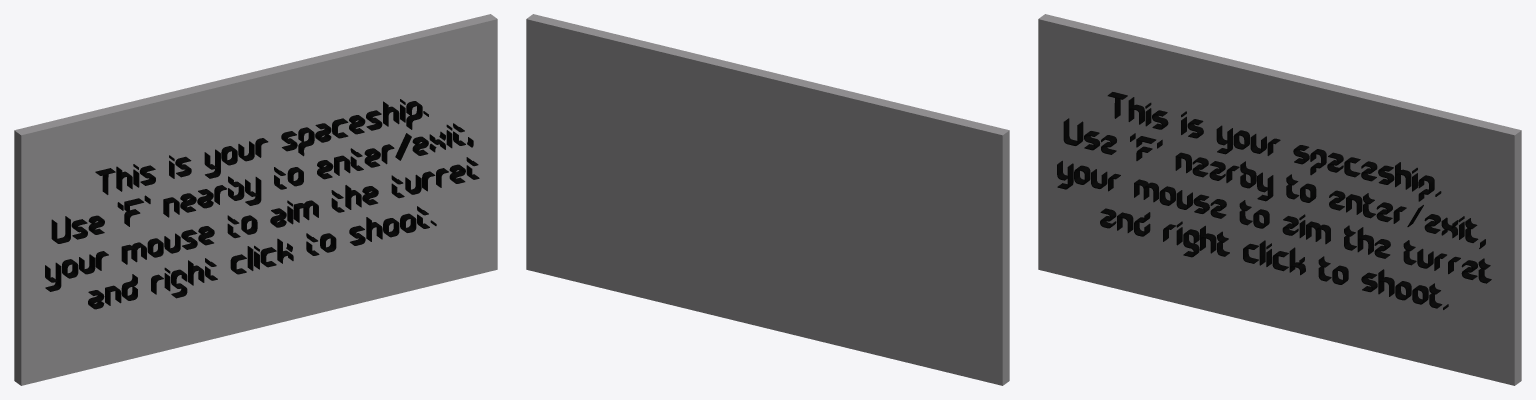
The model's file is Cartel_Spaceship.fbx.
3 views of the same model, side by side, from view 1: azimuth 30°, elevation 25°; view 2: azimuth 150°, elevation 25°; view 3: azimuth 330°, elevation 25° (orthographic).
Visible parts, largest first — view 1: root, node_id118 (×4); view 2: root; view 3: root, node_id118 (×4).
Part boxes in pixels (bbox=[...]): root: bbox=[14, 14, 497, 385]; node_id118 (×4): bbox=[45, 99, 479, 309]; root: bbox=[526, 14, 1009, 385]; root: bbox=[1038, 14, 1521, 385]; node_id118 (×4): bbox=[1057, 92, 1491, 309].
Bounding box in the file's own units: 0.511 × 0.2568 × 0.022.
5 materials, 1 textured.
